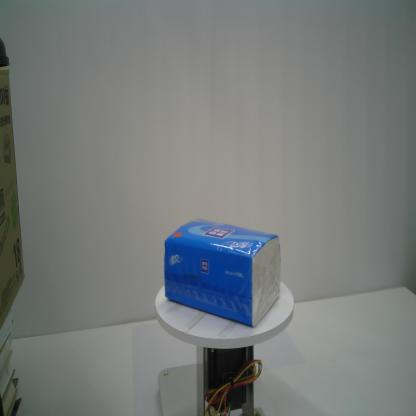Tissue: (164, 217, 282, 329)
